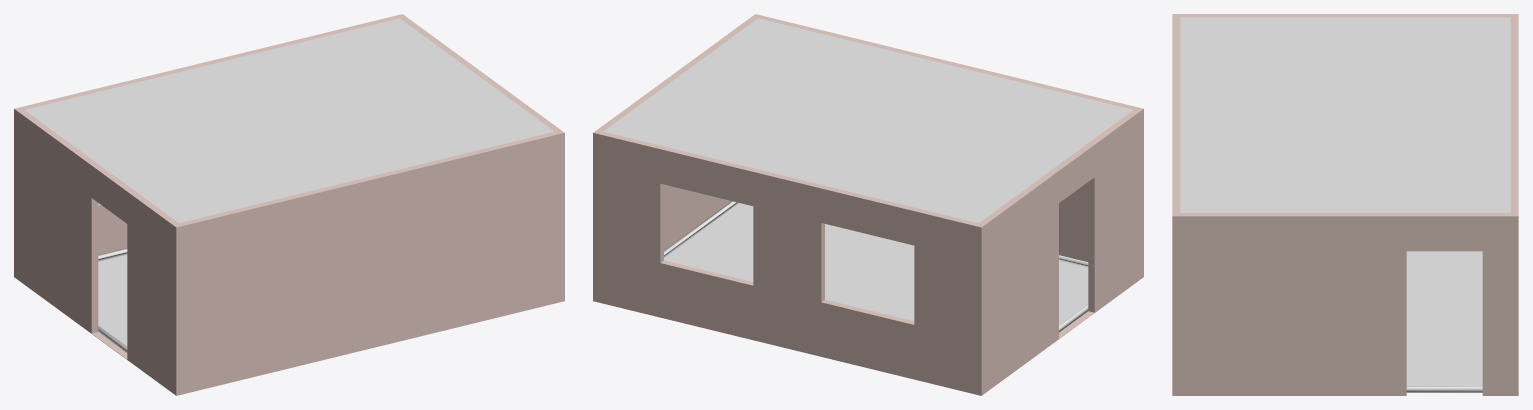
Rendered from NoDoor.fbx.
3 renders of one model, left to right at view 1: azimuth 30°, elevation 25°; view 2: azimuth 150°, elevation 25°; view 3: azimuth 270°, elevation 25°, orthographic. The views are drawn at different scales.
Parts seen in each view (by area): view 1: Room, Ceiling, Floor; view 2: Room, Ceiling, Floor, Baseboard; view 3: Ceiling, Room, Floor, Baseboard.
Boxes of the visible parts, bbox=[...] form: Room: bbox=[14, 14, 564, 395]; Ceiling: bbox=[25, 18, 553, 223]; Floor: bbox=[98, 254, 127, 345]; Room: bbox=[593, 14, 1143, 395]; Ceiling: bbox=[604, 18, 1132, 223]; Floor: bbox=[664, 203, 1088, 325]; Baseboard: bbox=[664, 201, 1088, 332]; Ceiling: bbox=[1180, 17, 1510, 212]; Room: bbox=[1172, 14, 1518, 395]; Floor: bbox=[1406, 251, 1482, 385]; Baseboard: bbox=[1406, 386, 1482, 392].
Size of the model in its own units: 724 by 300 by 524.
